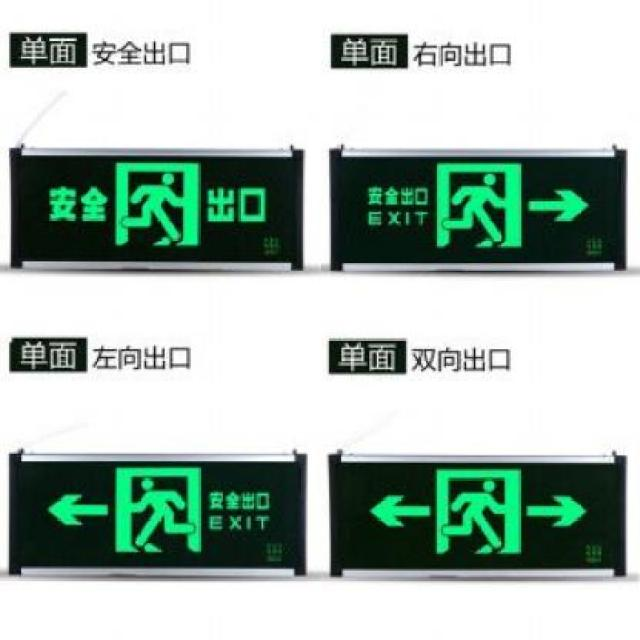exit_sign: (332, 126, 632, 295), (317, 438, 640, 582), (0, 437, 301, 586), (8, 132, 297, 272)
